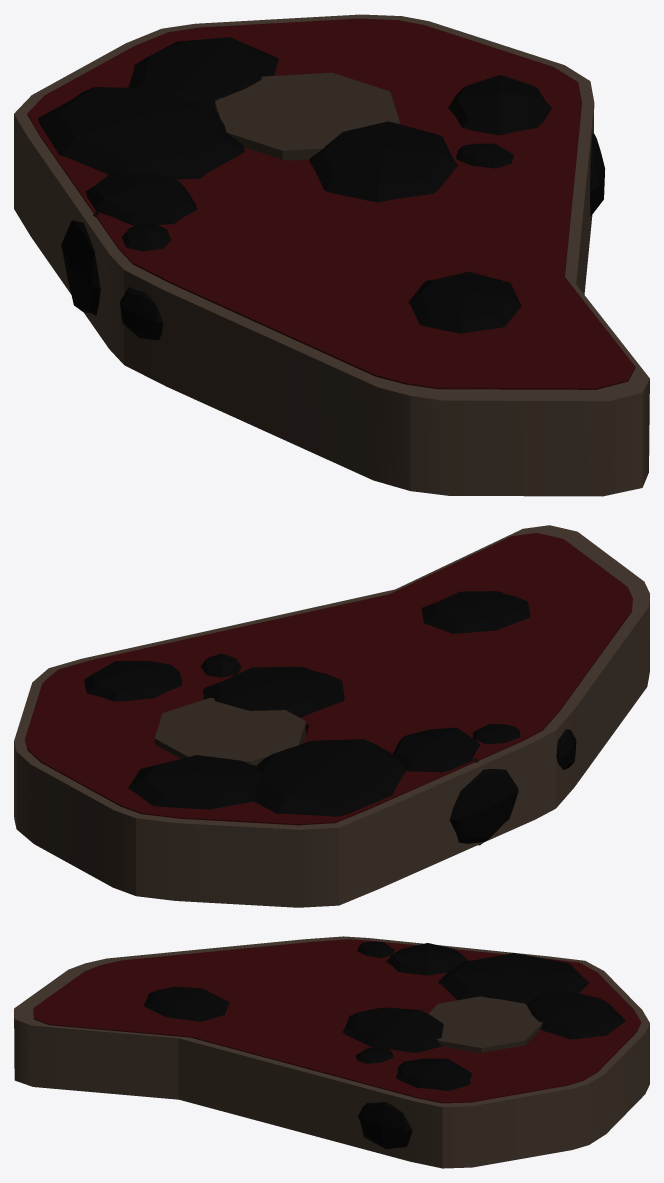
The model's file is _ottenSteak.fbx.
3 renders of one model, top to bottom at view 1: azimuth 30°, elevation 25°; view 2: azimuth 150°, elevation 25°; view 3: azimuth 270°, elevation 25°, orthographic. The views are drawn at different scales.
Visible parts, largest first — view 1: pCube30; view 2: pCube30; view 3: pCube30.
Part boxes in pixels (x1,y1,x2,y2): pCube30: [14, 14, 649, 496]; pCube30: [14, 525, 649, 907]; pCube30: [14, 936, 649, 1168].
Bounding box in the file's own units: 43.29 × 9.42 × 67.07.
